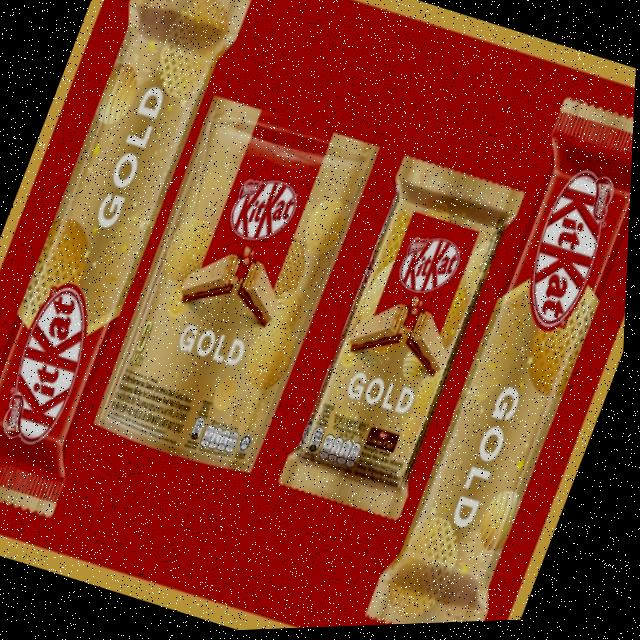kitkat: (92, 94, 382, 482), (281, 152, 529, 528)
